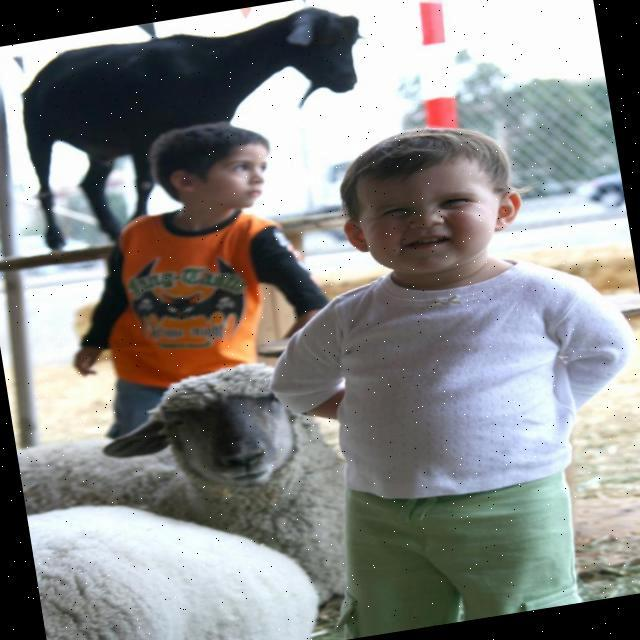sheep: (18, 362, 348, 582), (27, 506, 322, 640)
